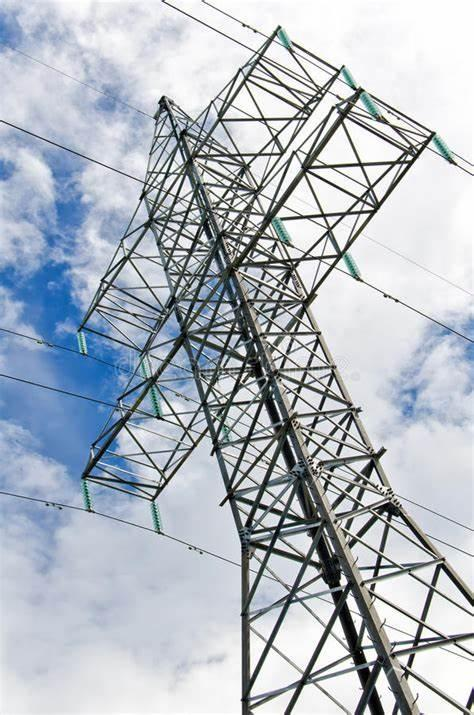power_tower: (77, 19, 474, 715)
